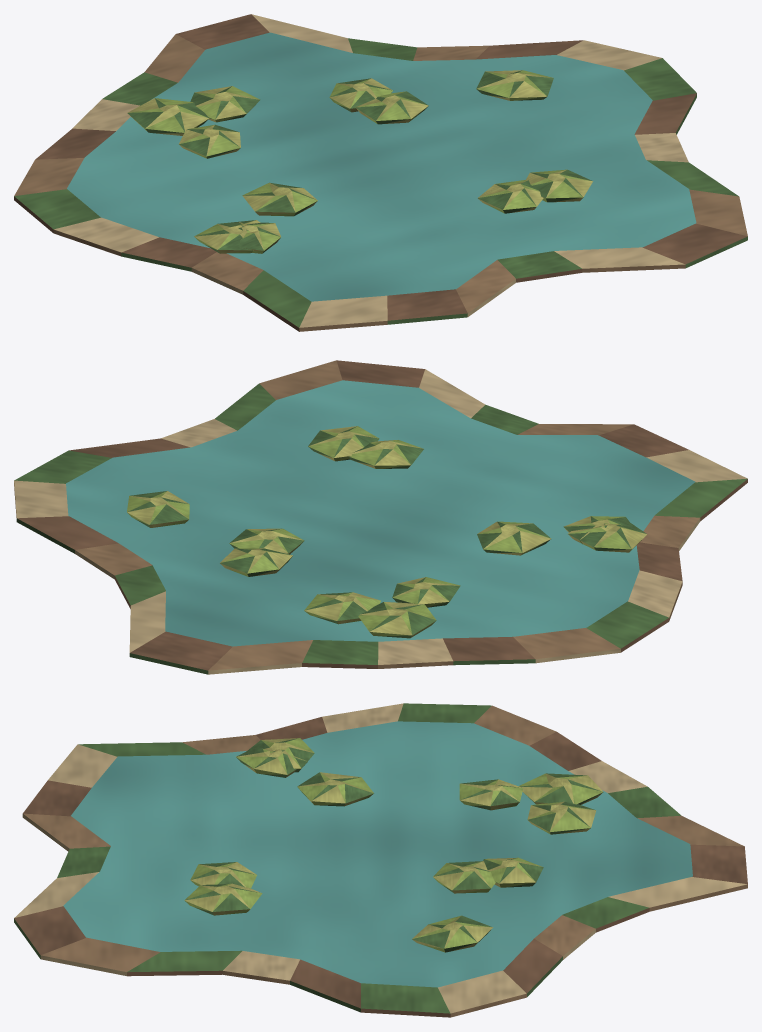
The model's file is marsh_patch.fbx.
3 renders of one model, top to bottom at view 1: azimuth 30°, elevation 25°; view 2: azimuth 150°, elevation 25°; view 3: azimuth 270°, elevation 25°, orthographic.
Parts seen in each view (by area): view 1: marsh_patch; view 2: marsh_patch; view 3: marsh_patch.
Boxes of the visible parts, <box> form: marsh_patch: <box>14,14,747,331</box>; marsh_patch: <box>14,360,747,674</box>; marsh_patch: <box>14,703,747,1017</box>.
Size of the model in its own units: 1400 by 44 by 1400.
2 materials, 2 textured.
